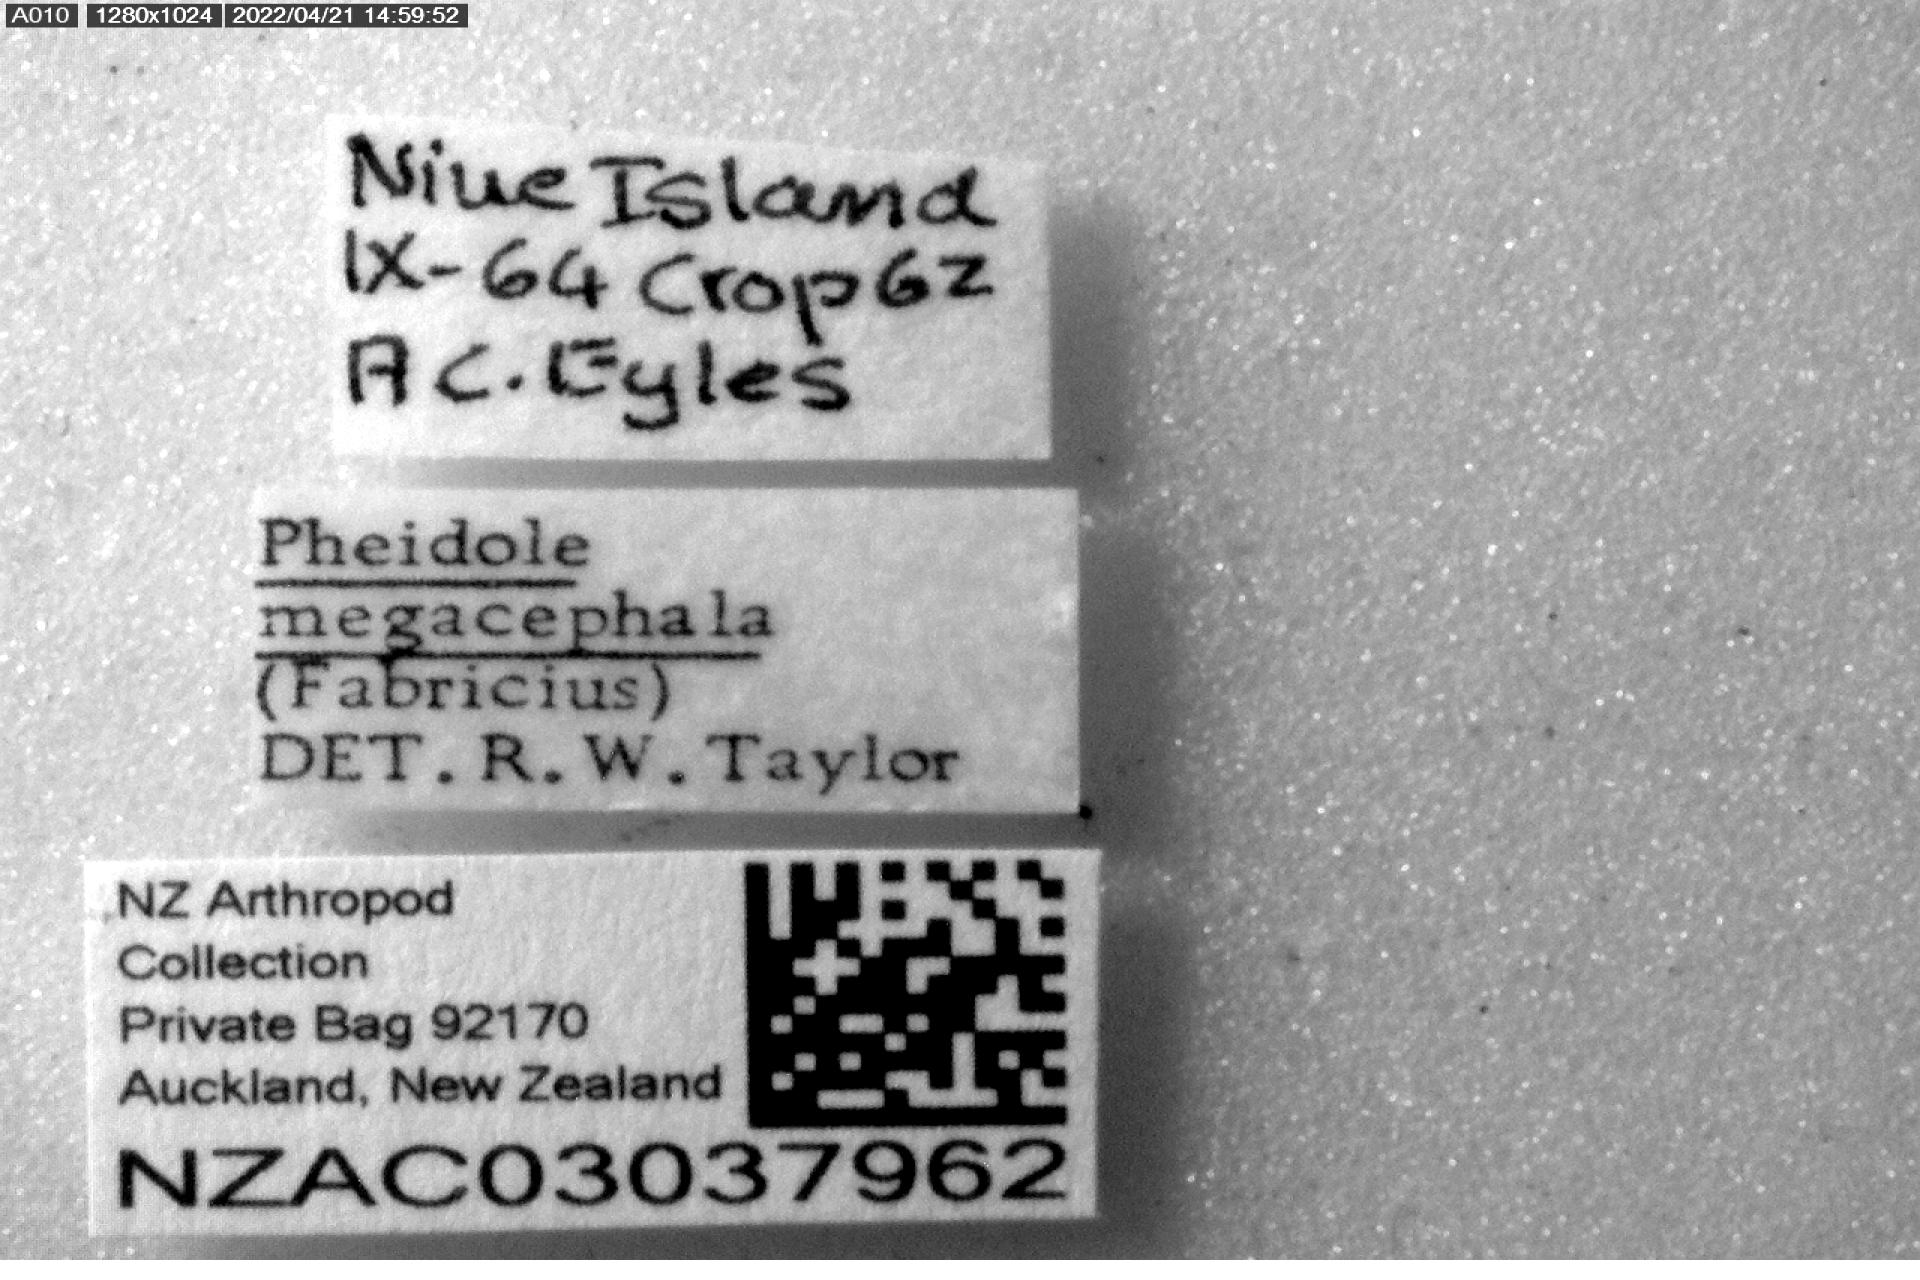hand_label: (326, 119, 1050, 460)
typed_label: (86, 850, 1099, 1234), (254, 487, 1080, 813)
